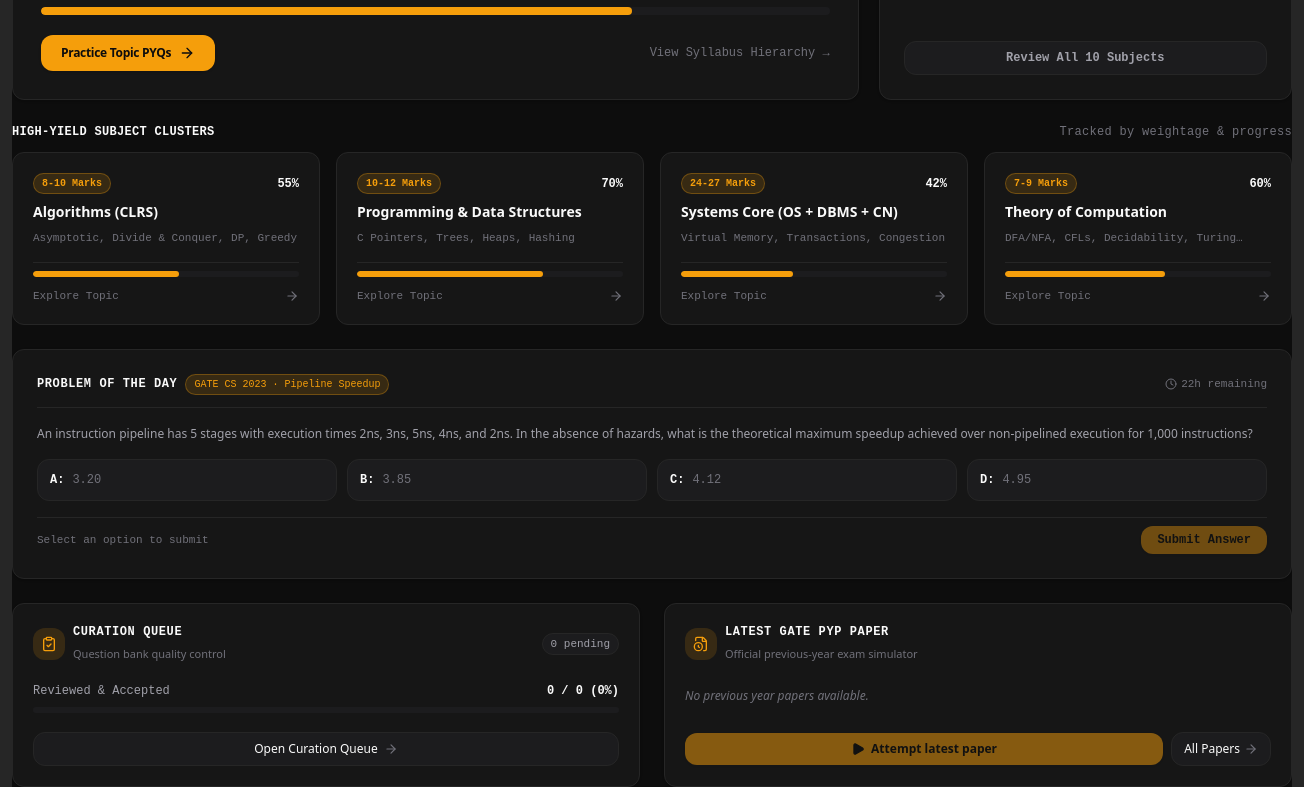
Test: Dashboard Multi-Layout Engine & Variant Views › renders Variant 3: Bento Grid when layout is bento and supports interactive submission
(page scrolled)
Expected: the button "Submit Answer" is disabled, [1141,526,1267,554]
Click the button "B:3.85" at (364, 480), box [347,459,647,501]
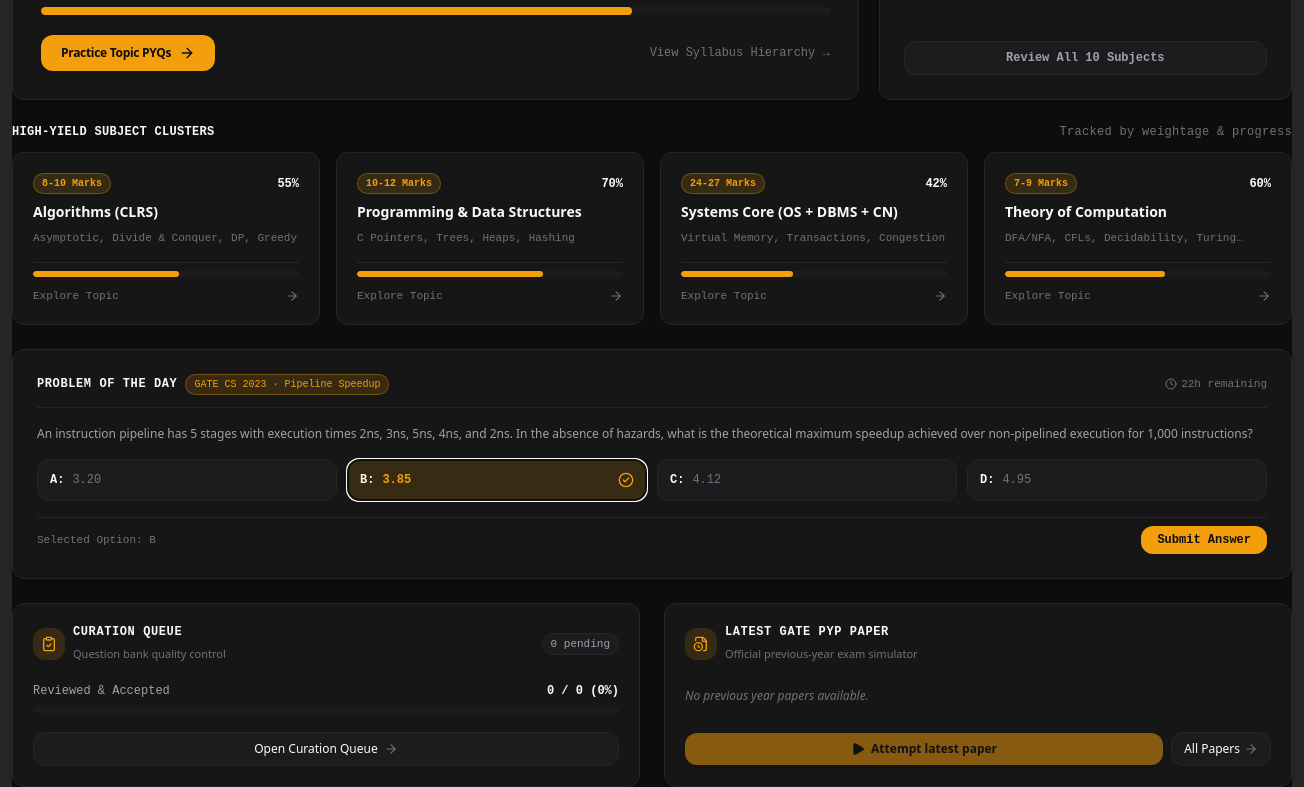
Expected: the text "Selected Option: B" is shown, [37,532,156,548]
Expected: the button "Submit Answer" is enabled
Click the button "Submit Answer" at (1204, 540), box [1141,526,1267,554]
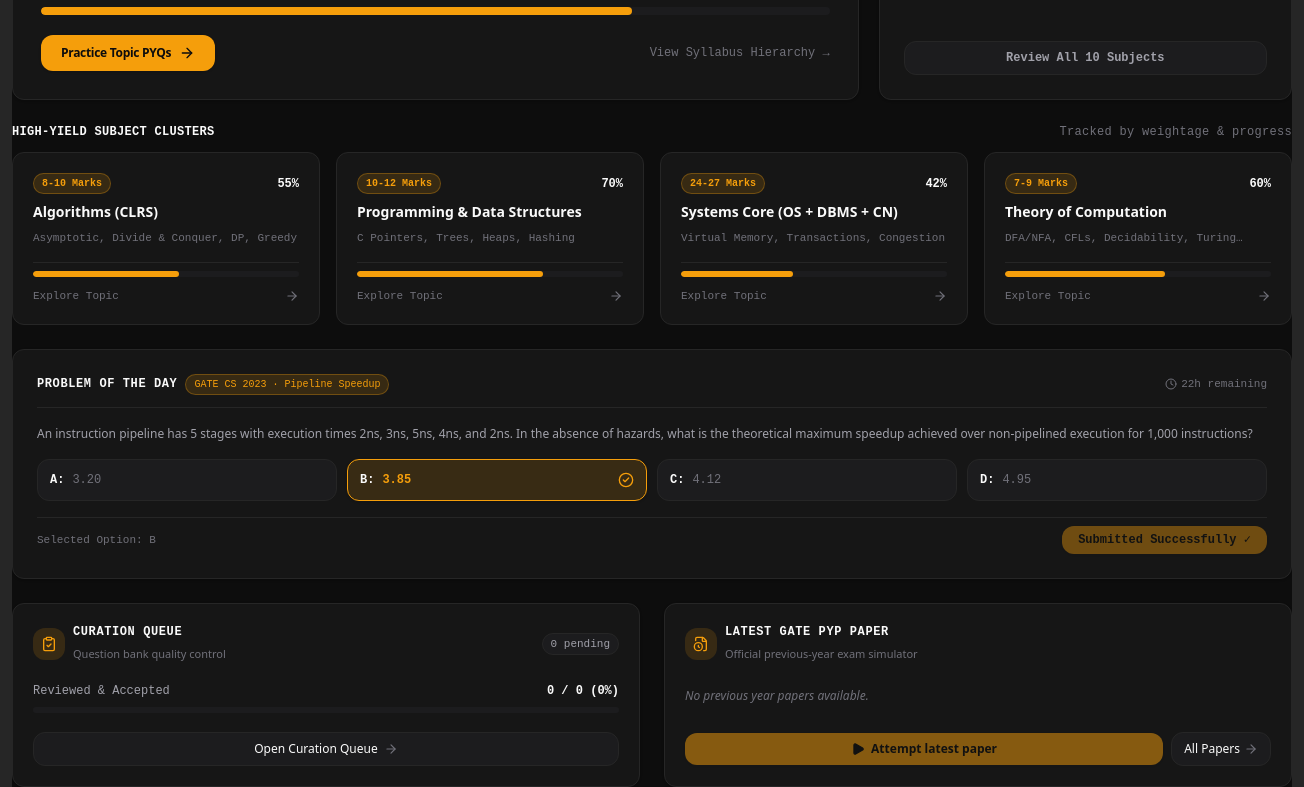
Expected: the button "Submitted Successfully ✓" is shown, [1062,526,1267,554]
